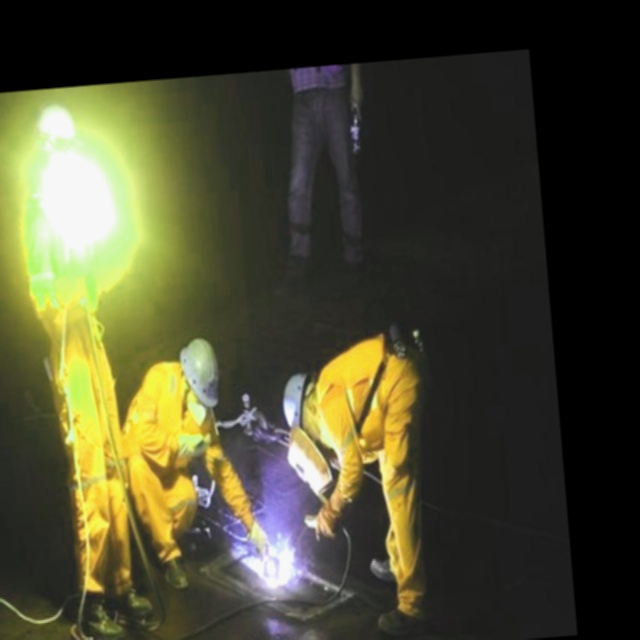Con_Casco: (181, 337, 220, 414), (280, 365, 315, 436)
